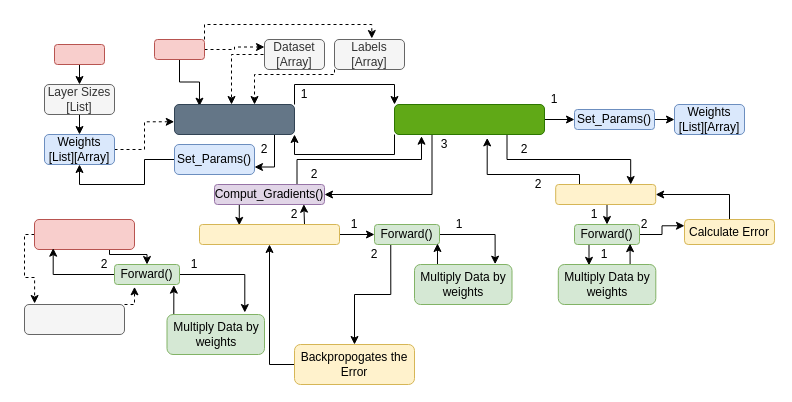
This 792x402 diagram has some shape labels left out. The box of each missing label's shape, as (x1, y1, x2, y2) in pixels:
Cost_function(): (555, 184, 656, 204)
Cost_Function_Prime(): (198, 224, 340, 244)
Cost_Function_Wrapper(): (394, 104, 544, 134)
Get_Predicitons(): (34, 218, 134, 250)
Init: (54, 44, 104, 64)
Optimize.minimize(): (174, 104, 294, 134)
Test Set [Array]: (24, 304, 124, 334)
Train: (154, 38, 204, 60)
